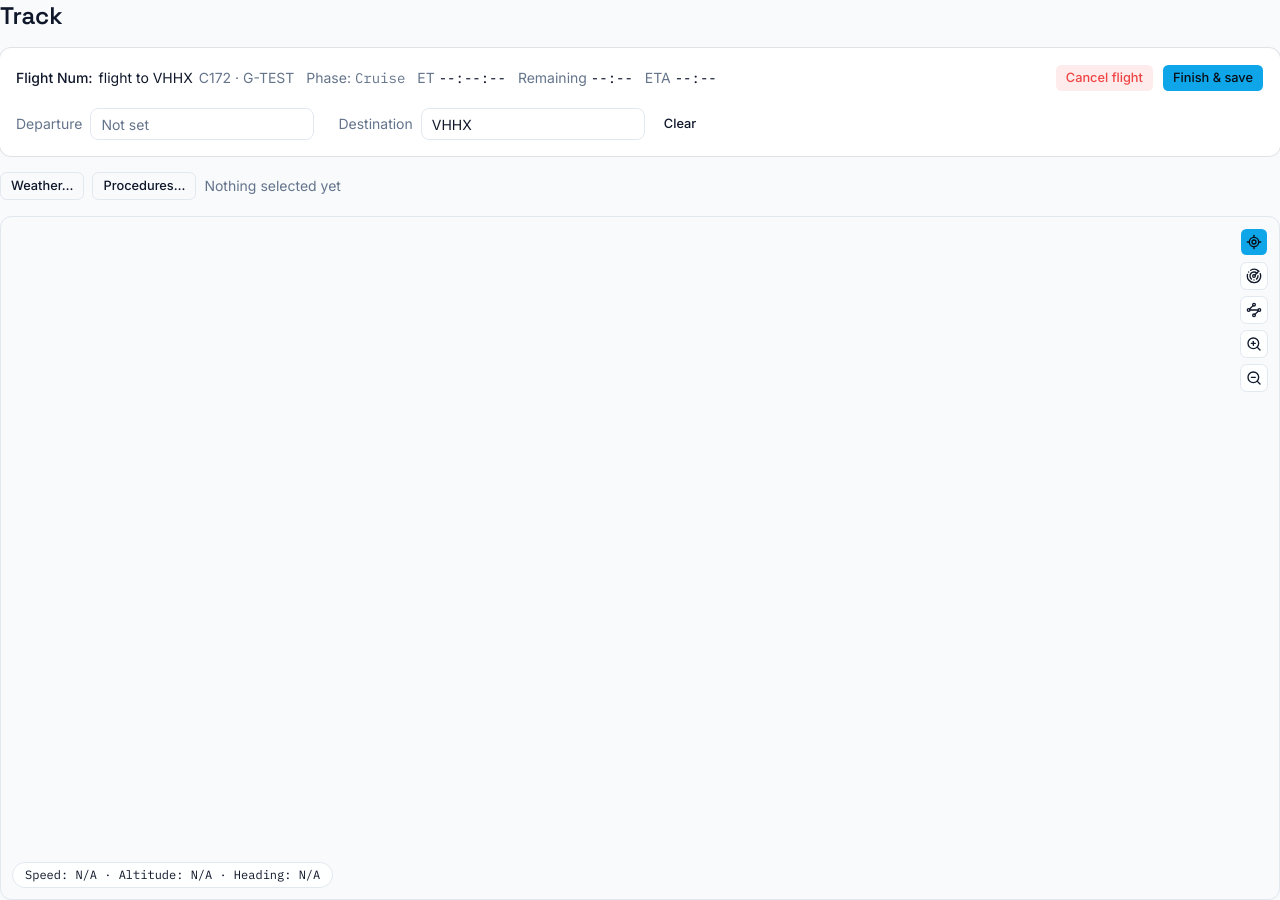
Test: TrackView › free-flight destination while tracking (v1.1.1) › sets the departure the same way, and both feed the Weather dialog (Dep / Dest tabs) apart from Custom
Expected: the text "Departure" is shown, left=16, top=114, right=82, bottom=134
In the field with placeholder "Not set": coordinates (202, 124) left=90, top=108, right=314, bottom=140, type "vhhh"
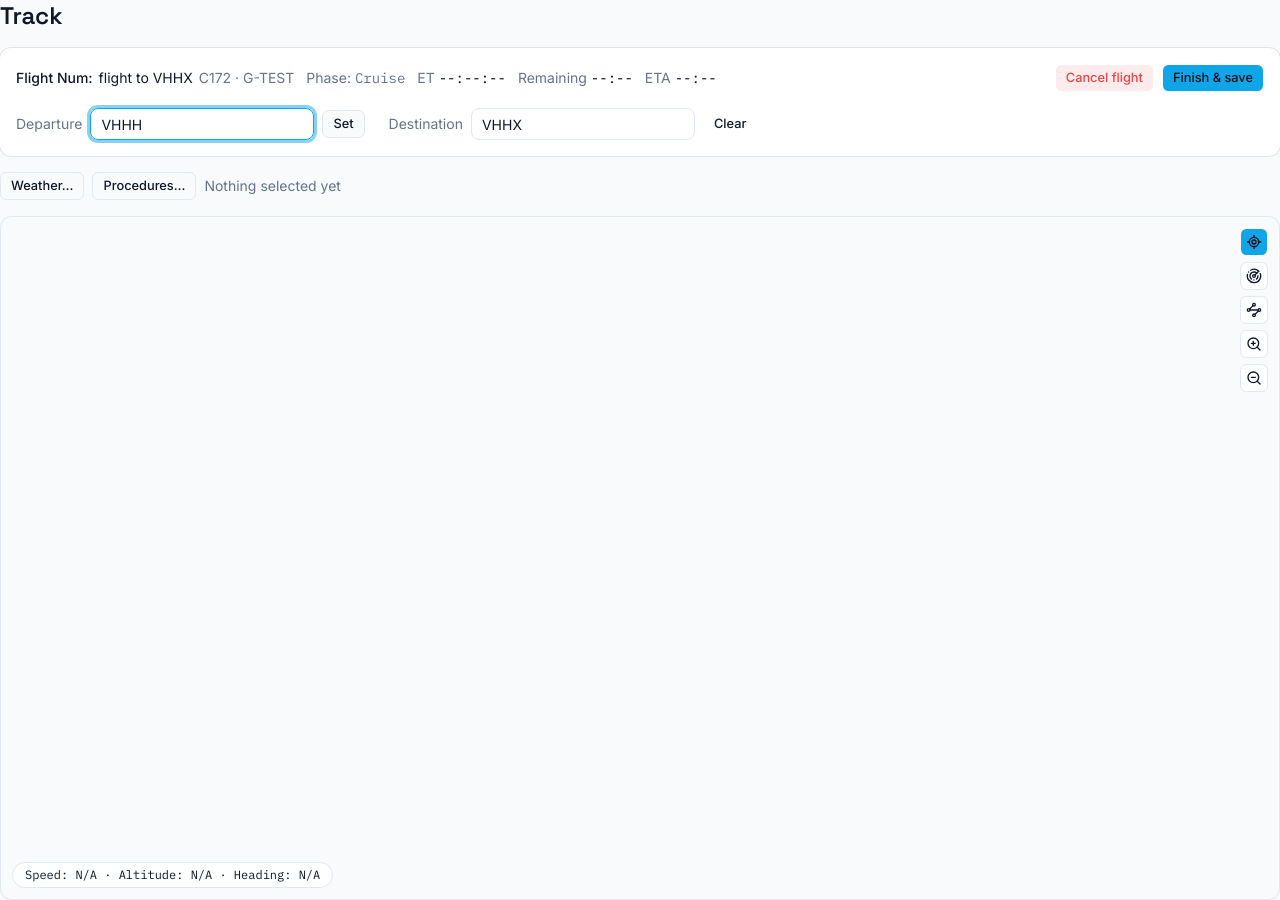
Click the button with aria-label "Set departure": coordinates (343, 124) left=322, top=110, right=364, bottom=138
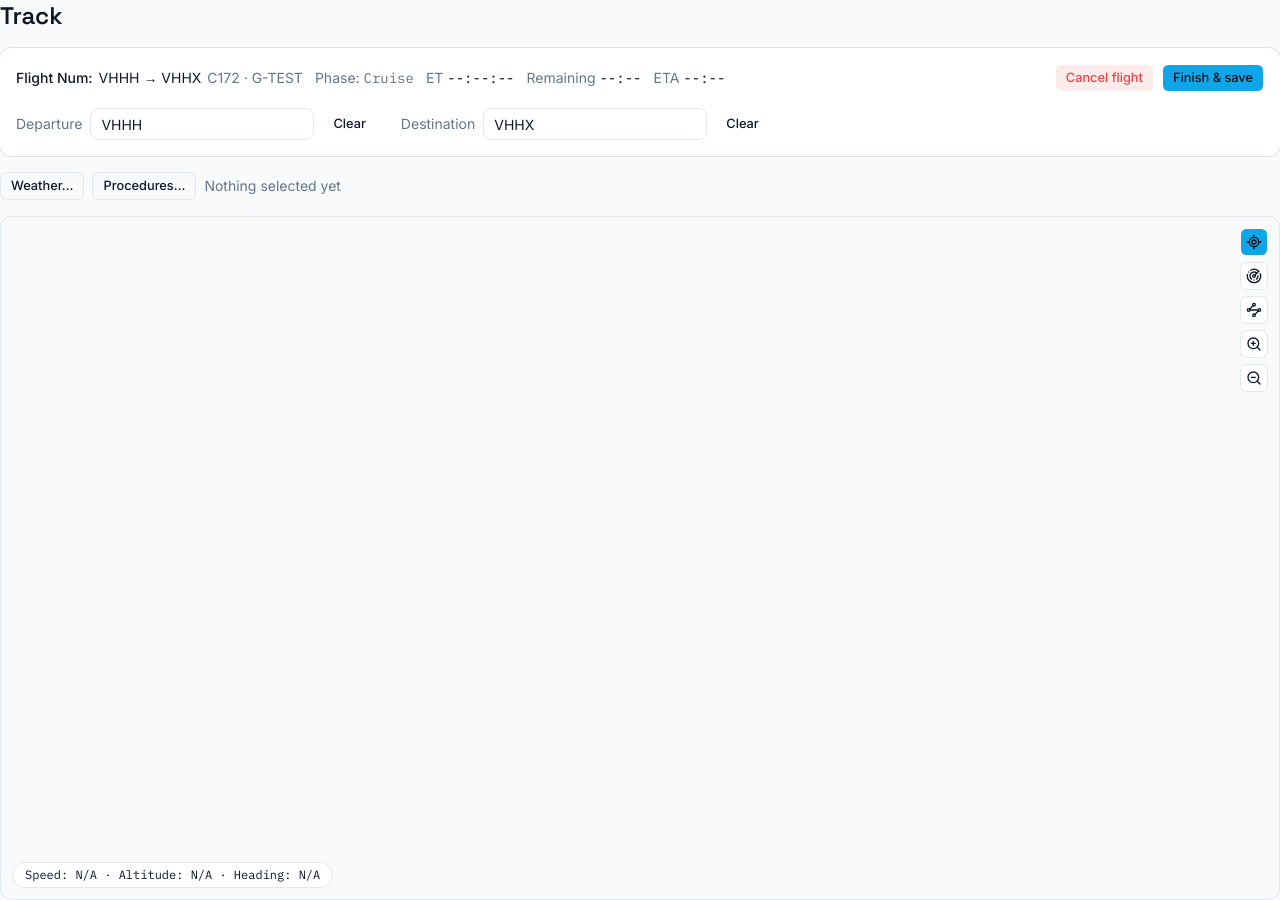
Expected: the field next to "Departure" holds "VHHH", left=90, top=108, right=314, bottom=140
Click the button "Weather…": coordinates (42, 186) left=0, top=172, right=84, bottom=200
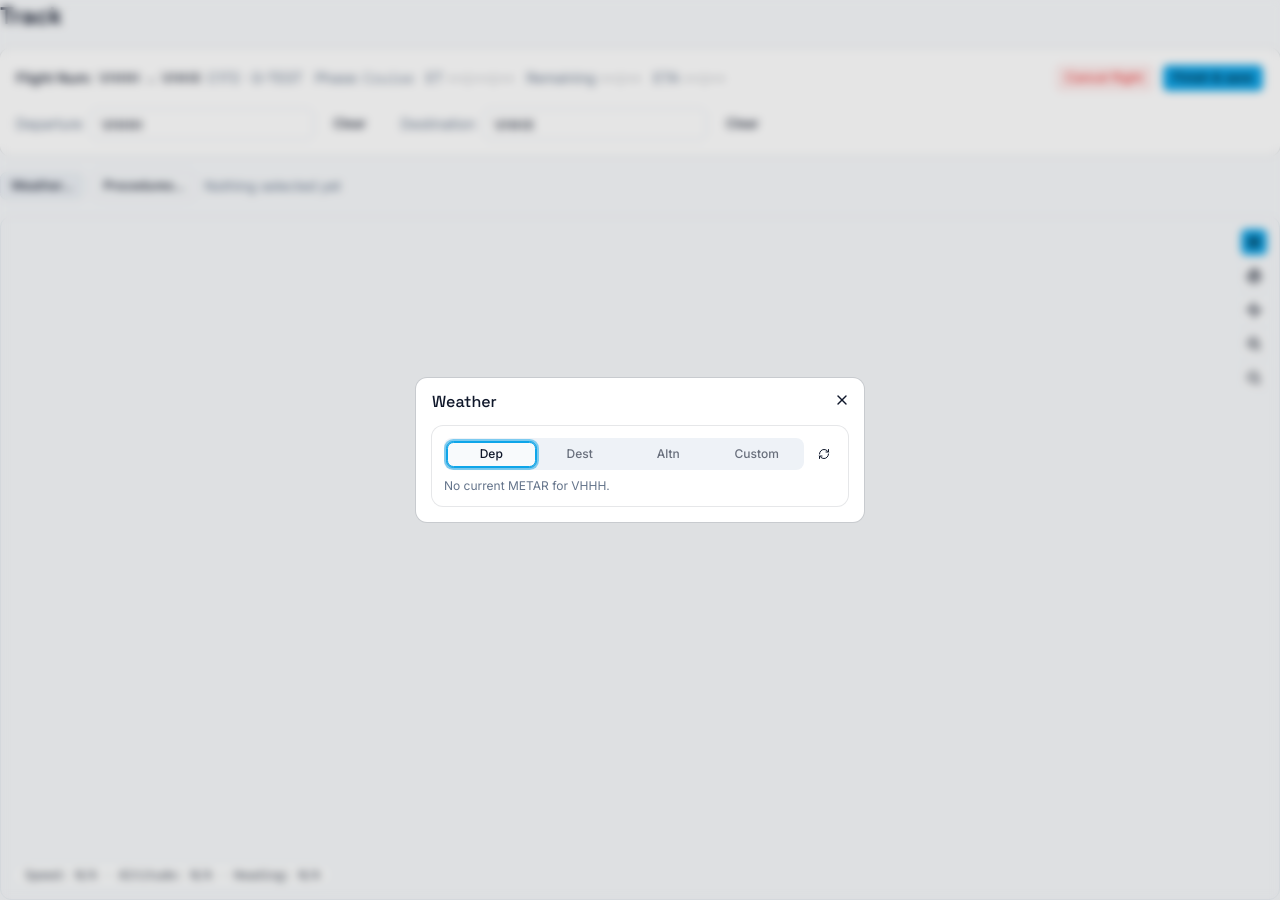
Expected: the tab "Dep" is shown, left=447, top=442, right=536, bottom=466
Expected: the tab "Dest" is shown, left=536, top=442, right=624, bottom=466
Expected: the tab "Custom" is shown, left=712, top=442, right=801, bottom=466
